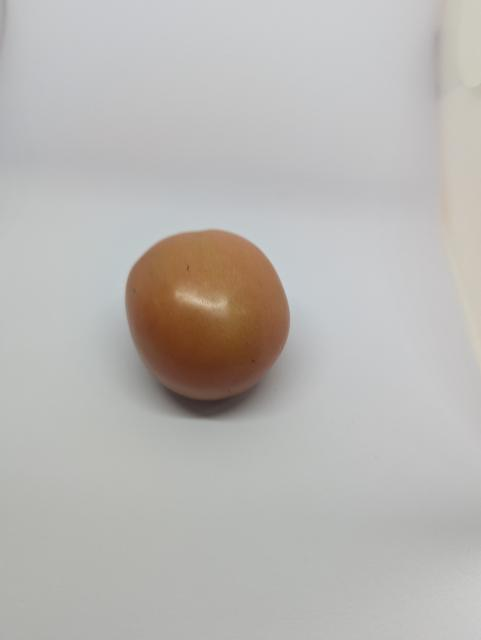turning: (121, 226, 294, 410)
